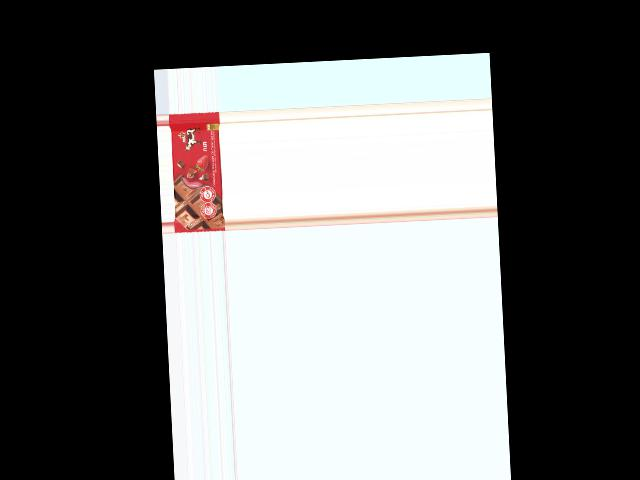chocolate: (169, 110, 225, 233)
